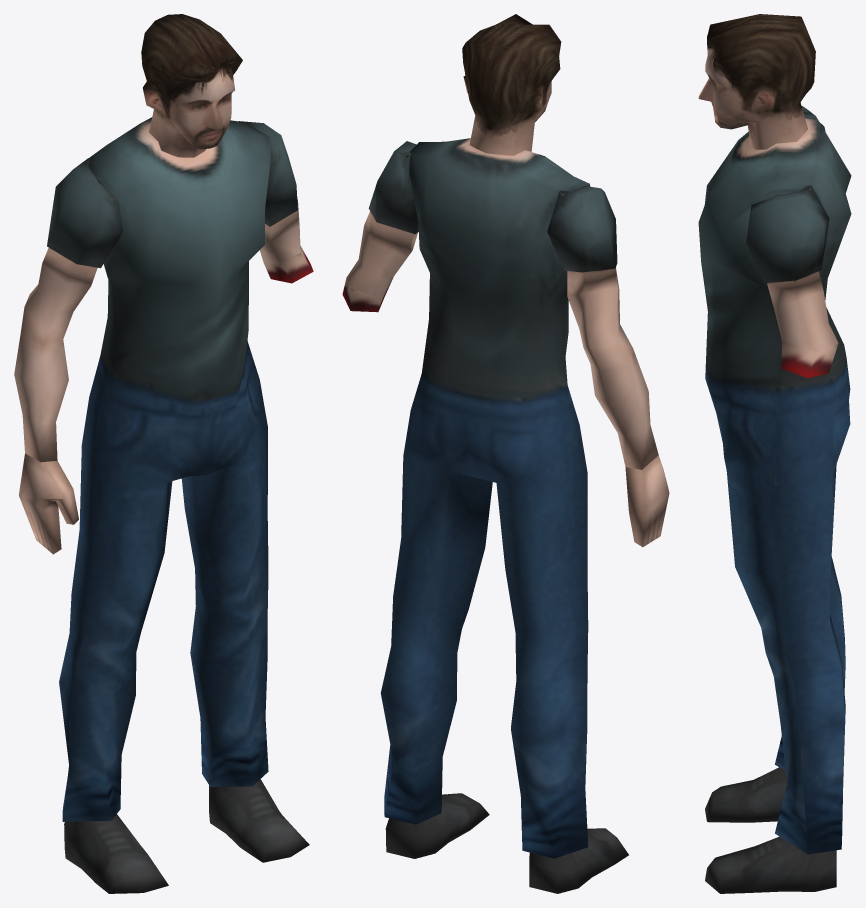
Rendered from armless.glb.
3 renders of one model, left to right at view 1: azimuth 30°, elevation 25°; view 2: azimuth 150°, elevation 25°; view 3: azimuth 270°, elevation 25°, orthographic.
Visible parts, largest first — view 1: male_player; view 2: male_player; view 3: male_player.
Boxes of the visible parts, x1=… form: male_player: x1=14, y1=14, x2=313, y2=893; male_player: x1=342, y1=14, x2=669, y2=893; male_player: x1=698, y1=14, x2=851, y2=893.
Size of the model in its own units: 0.6524 by 1.73 by 0.2894.
1 material, 1 textured.
